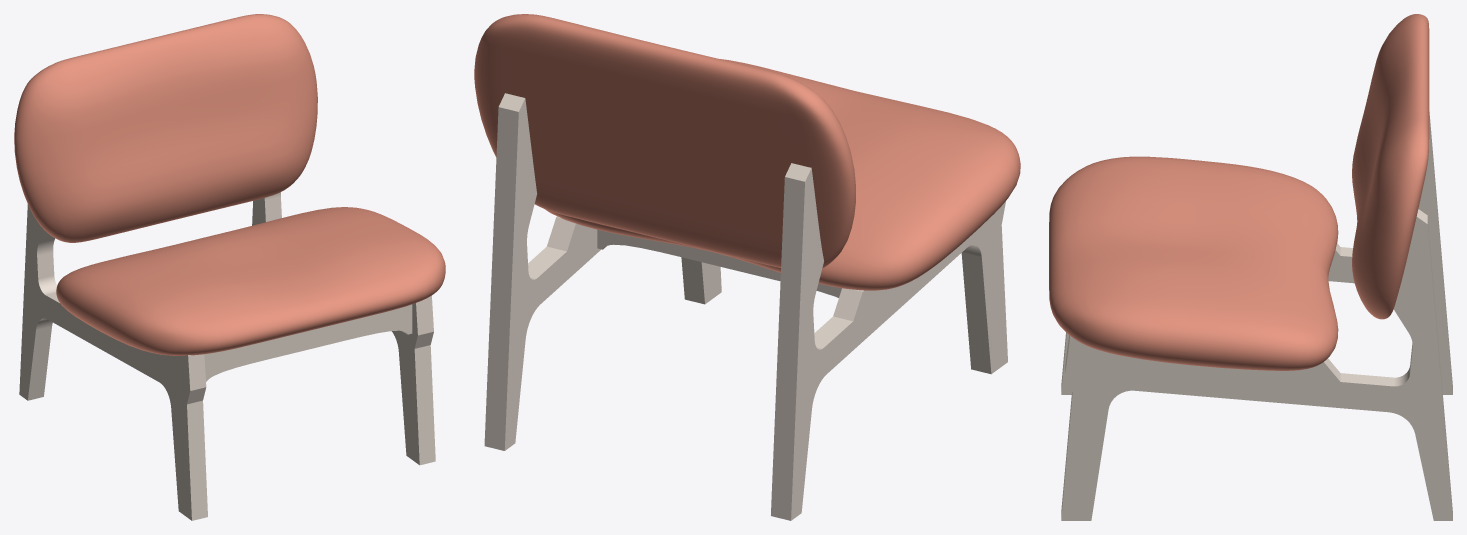
The model's file is 576_ローチェア.glb.
3 renders of one model, left to right at view 1: azimuth 30°, elevation 25°; view 2: azimuth 150°, elevation 25°; view 3: azimuth 270°, elevation 25°, orthographic. The views are drawn at different scales.
Parts seen in each view (by area): view 1: Body; view 2: Body; view 3: Body.
Part boxes in pixels (box(x1,y1,x2,y2)): Body: box(14, 14, 445, 520); Body: box(474, 14, 1020, 520); Body: box(1049, 14, 1452, 520).
Size of the model in its own units: 0.695 by 0.7011 by 0.6702.
